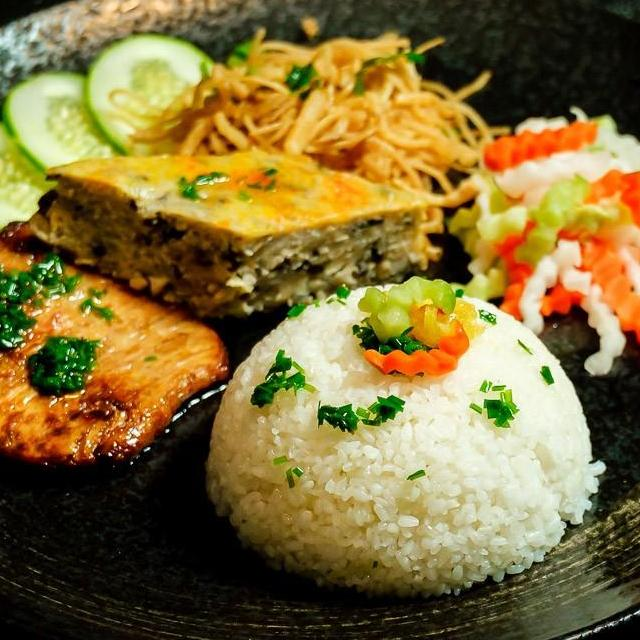bi: (499, 185, 640, 447)
cha: (309, 121, 582, 396)
com: (0, 238, 388, 514)
com suon bi cha: (0, 5, 640, 640)
dua chua: (220, 411, 640, 611)
suon: (89, 21, 475, 262)
